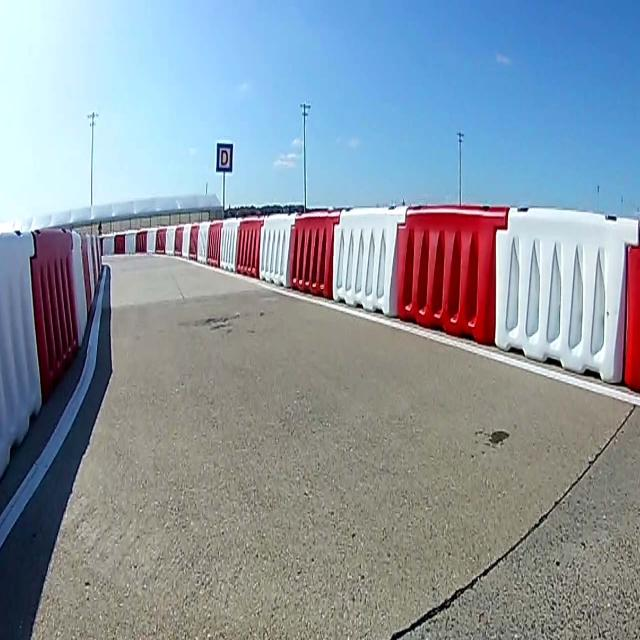durak: (216, 142, 234, 172)
